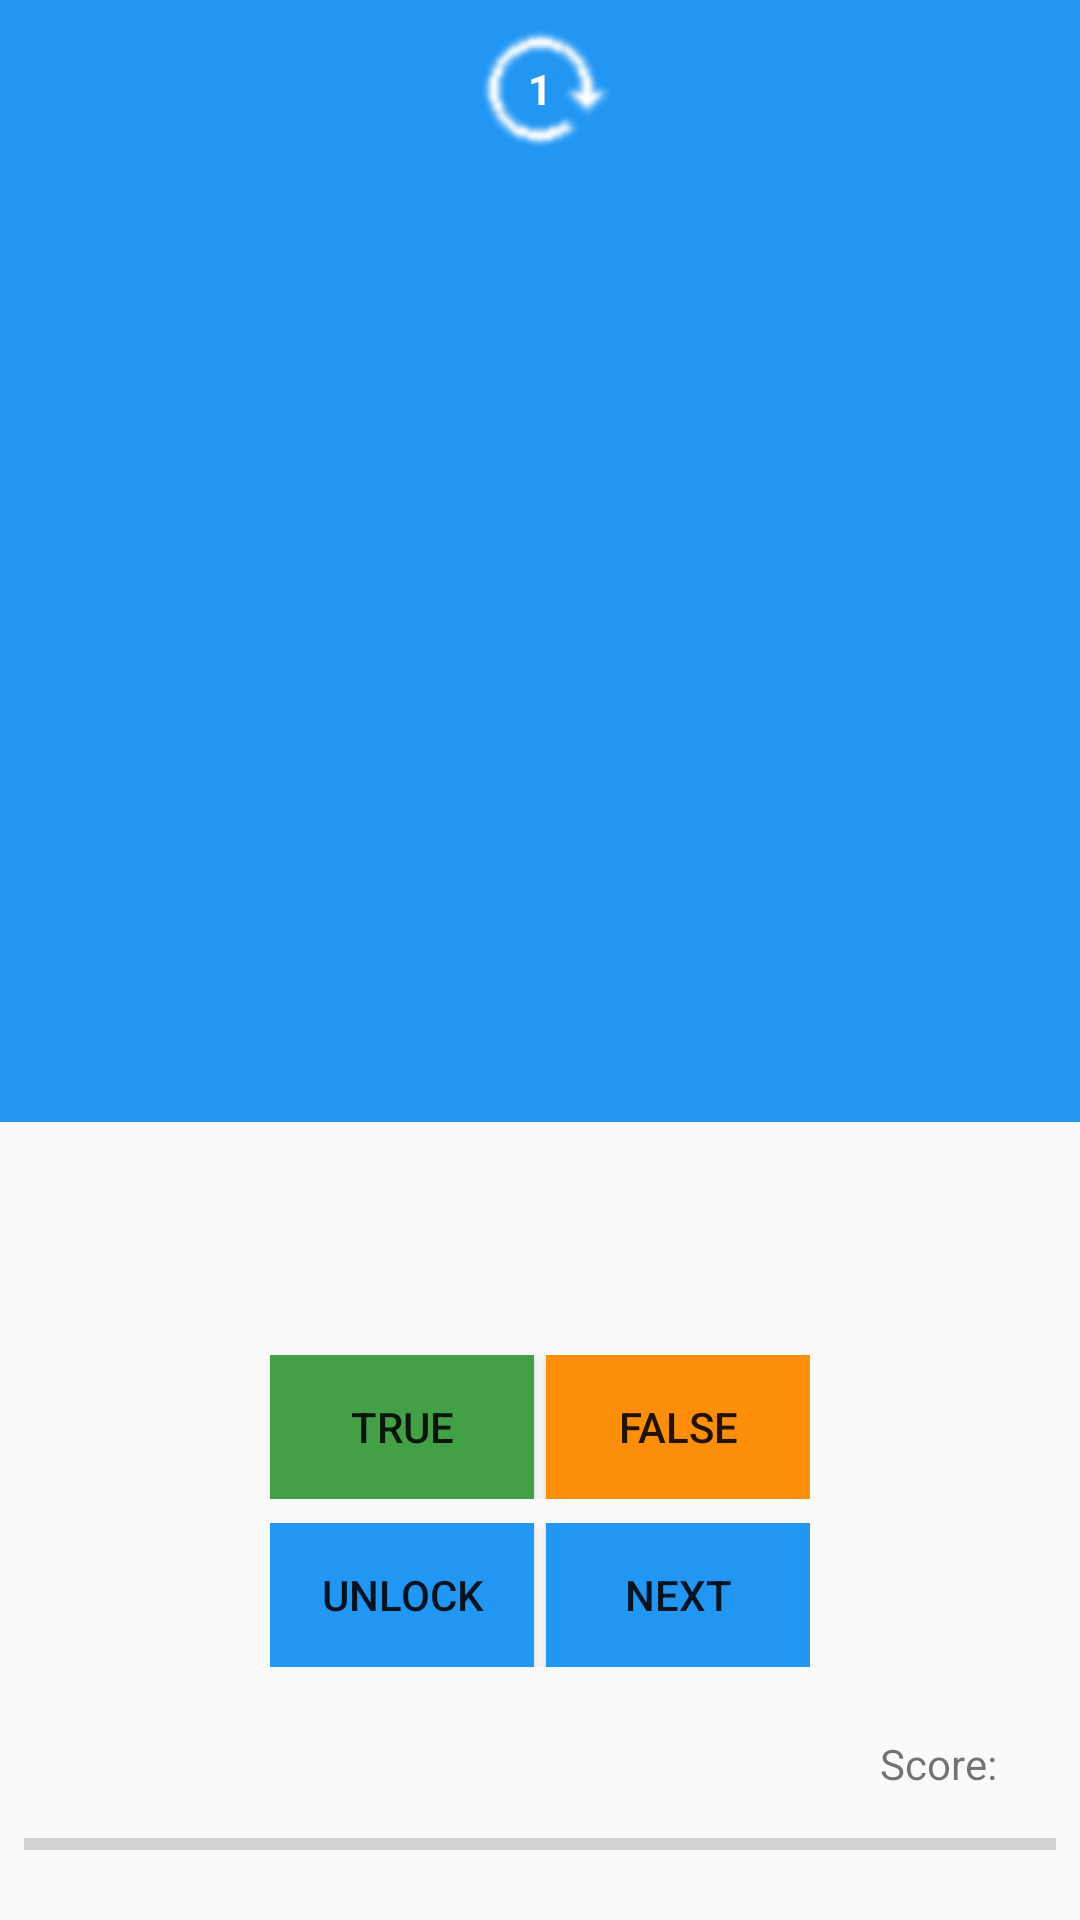

Icons on this 1080x1920 Android screen, each with its box as (x1, y1, x2, y2):
numberlidget: (484, 33, 608, 145)
